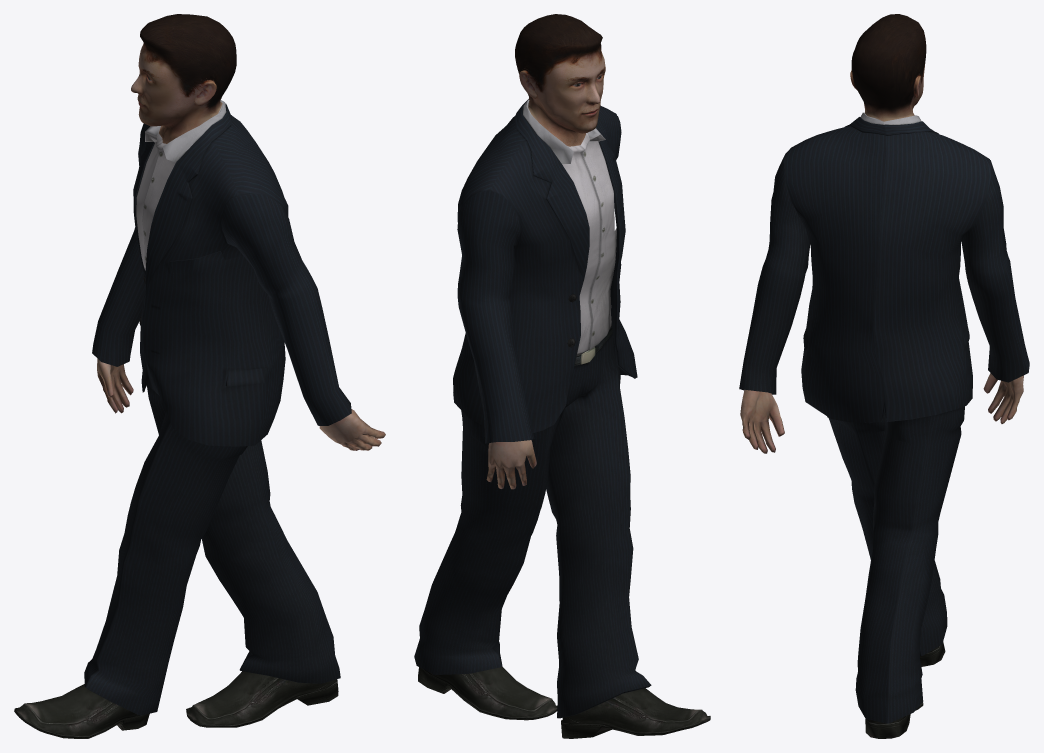
Rendered from man.glb.
The picture shows the model from 3 angles, left to right: view 1: azimuth 30°, elevation 25°; view 2: azimuth 150°, elevation 25°; view 3: azimuth 270°, elevation 25°; orthographic projection. The views are drawn at different scales.
Parts seen in each view (by area): view 1: 3D_people_; view 2: 3D_people_; view 3: 3D_people_.
Boxes of the visible parts, box(x1,y1,x2,y2) form: 3D_people_: box(14, 14, 385, 738); 3D_people_: box(414, 14, 710, 738); 3D_people_: box(739, 14, 1029, 738).
Bounding box in the file's own units: 78.45 × 173 × 69.42.
2 materials, 2 textured.
